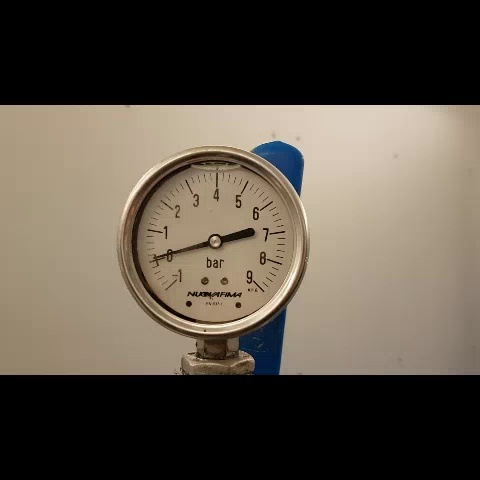Round_Meter: (128, 157, 298, 328)
